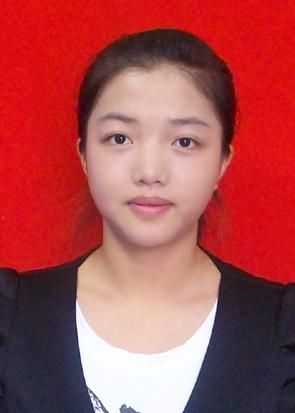unmask: (95, 75, 219, 240)
